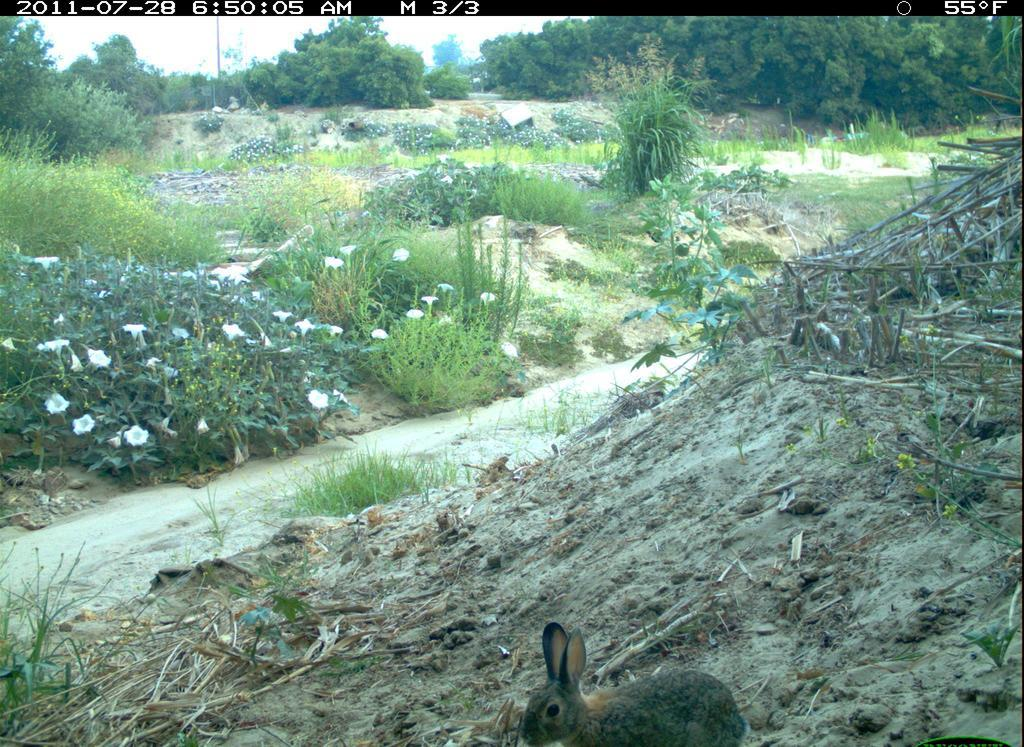rabbit: (510, 615, 760, 747)
